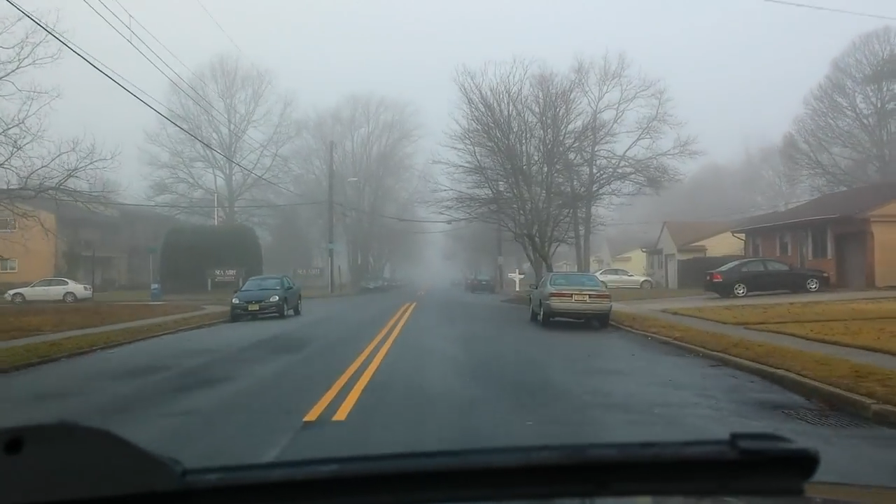car: (700, 253, 833, 298), (527, 270, 614, 331), (229, 273, 304, 321), (4, 275, 95, 306), (583, 265, 658, 292), (469, 273, 497, 294), (359, 273, 388, 293)
